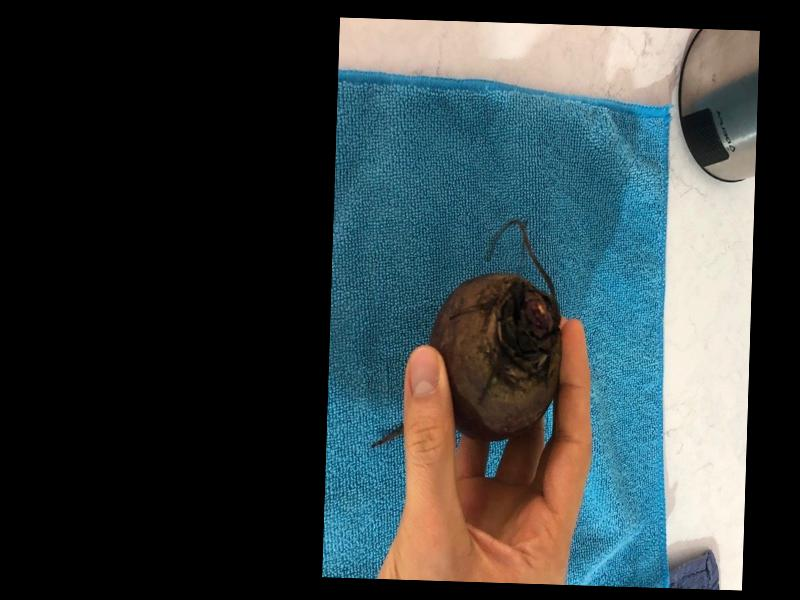Beet: (371, 217, 564, 452)
